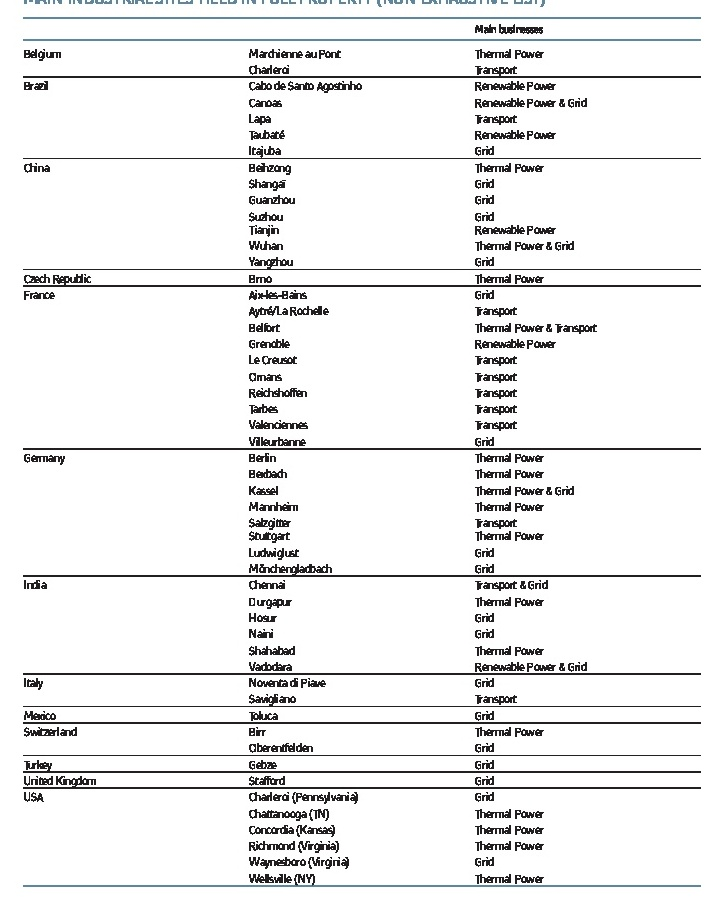table: (0, 0, 719, 907)
